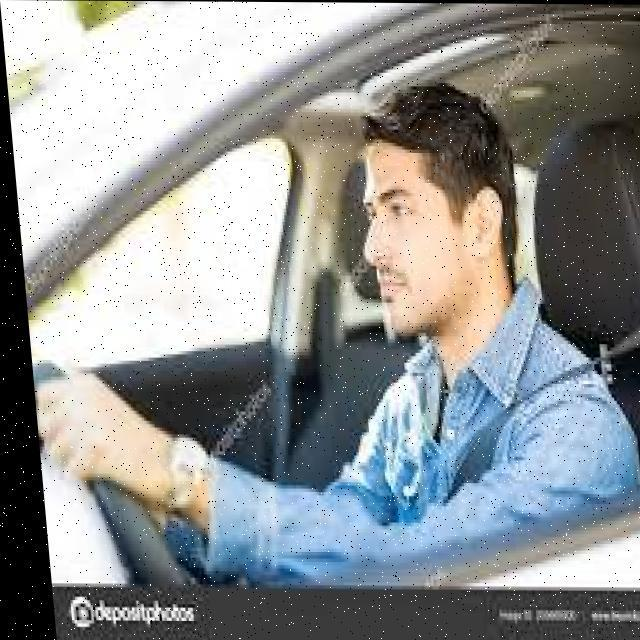seatbelt: (391, 292, 640, 529)
